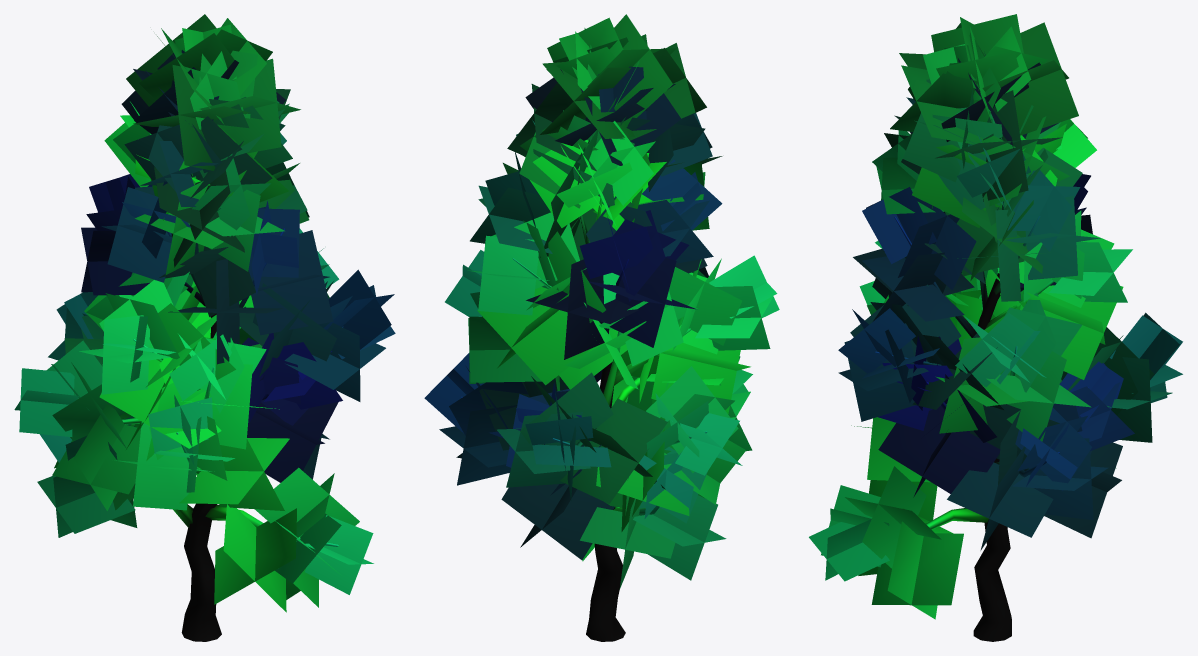
The model's file is tree 2 lod1.FBX.
The picture shows the model from 3 angles, left to right: view 1: azimuth 30°, elevation 25°; view 2: azimuth 150°, elevation 25°; view 3: azimuth 270°, elevation 25°; orthographic projection.
Visible parts, largest first — view 1: Tree lod1; view 2: Tree lod1; view 3: Tree lod1.
Boxes of the visible parts, x1,y1,x2,y2 form: Tree lod1: (14,14,395,641); Tree lod1: (424,14,779,641); Tree lod1: (809,14,1182,641).
Size of the model in its own units: 3.1 by 5.91 by 3.27.
